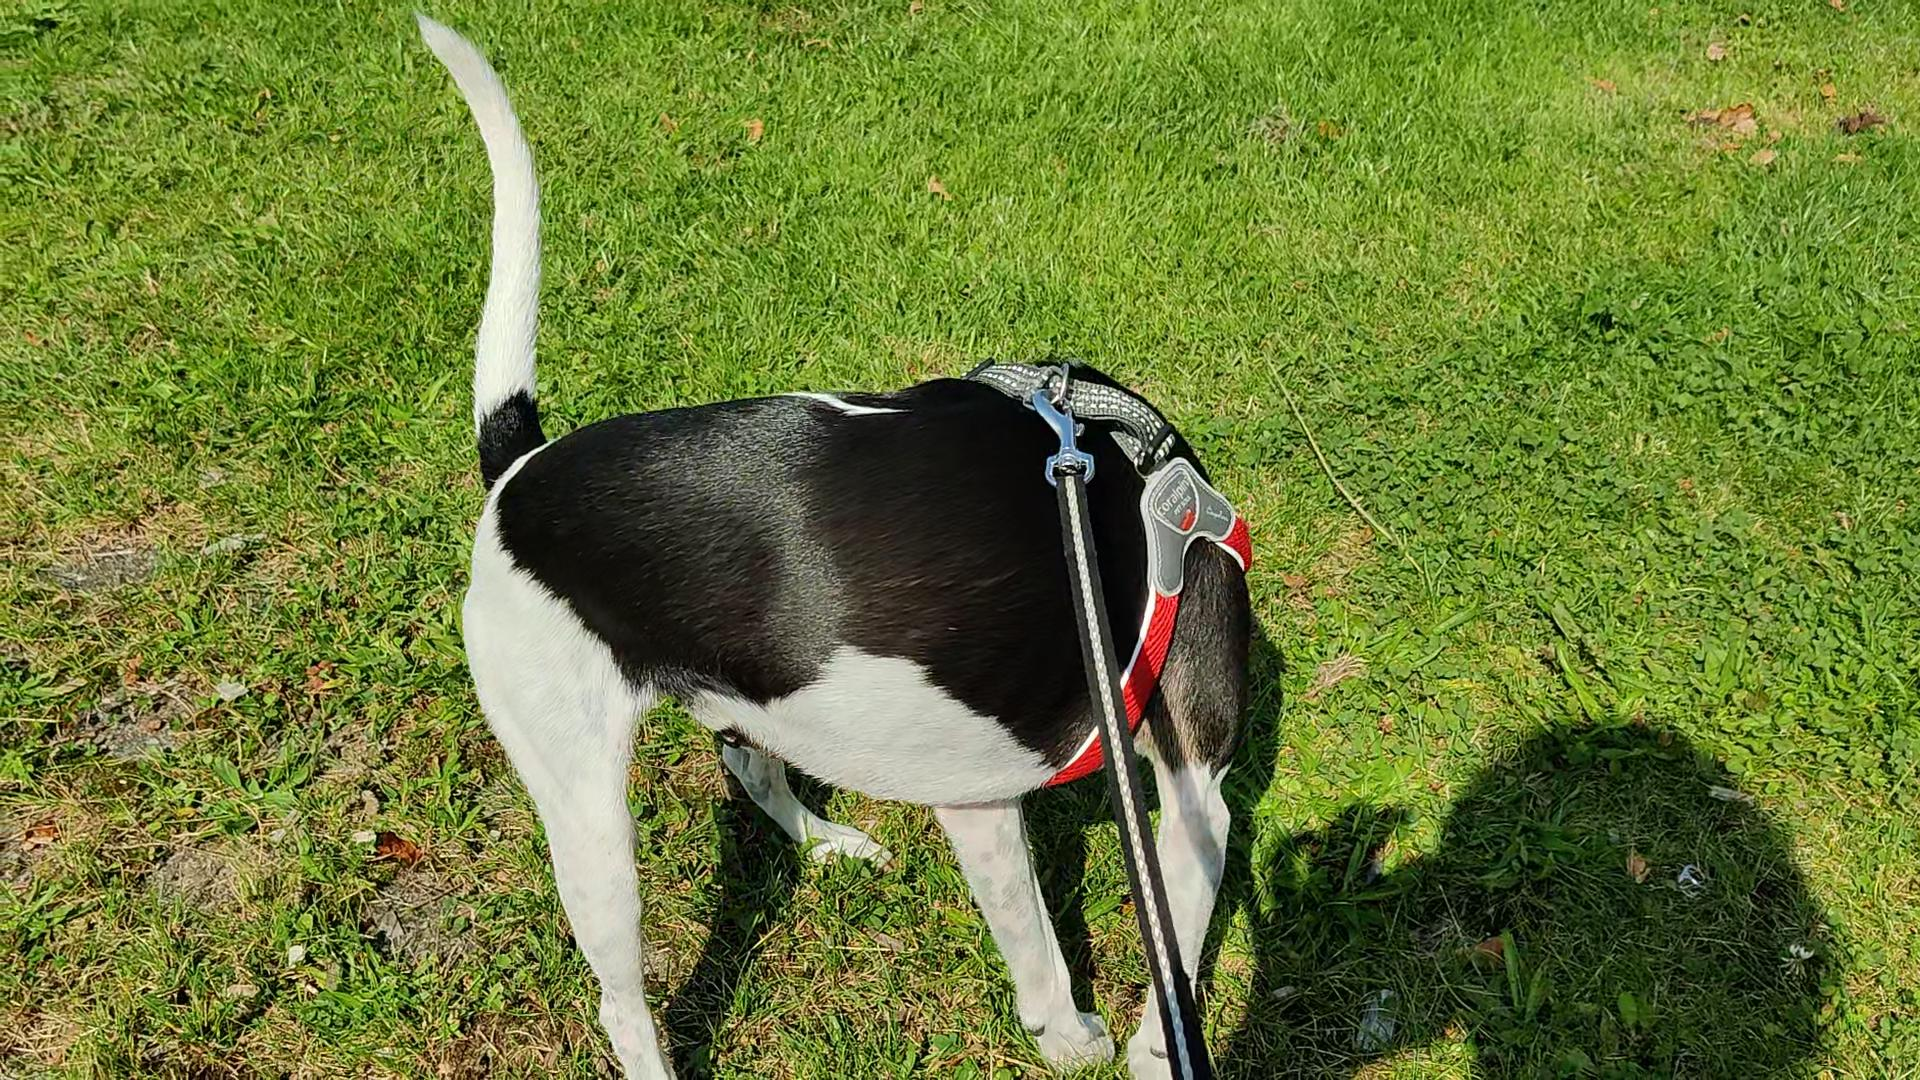Dog: (394, 7, 1263, 1079)
